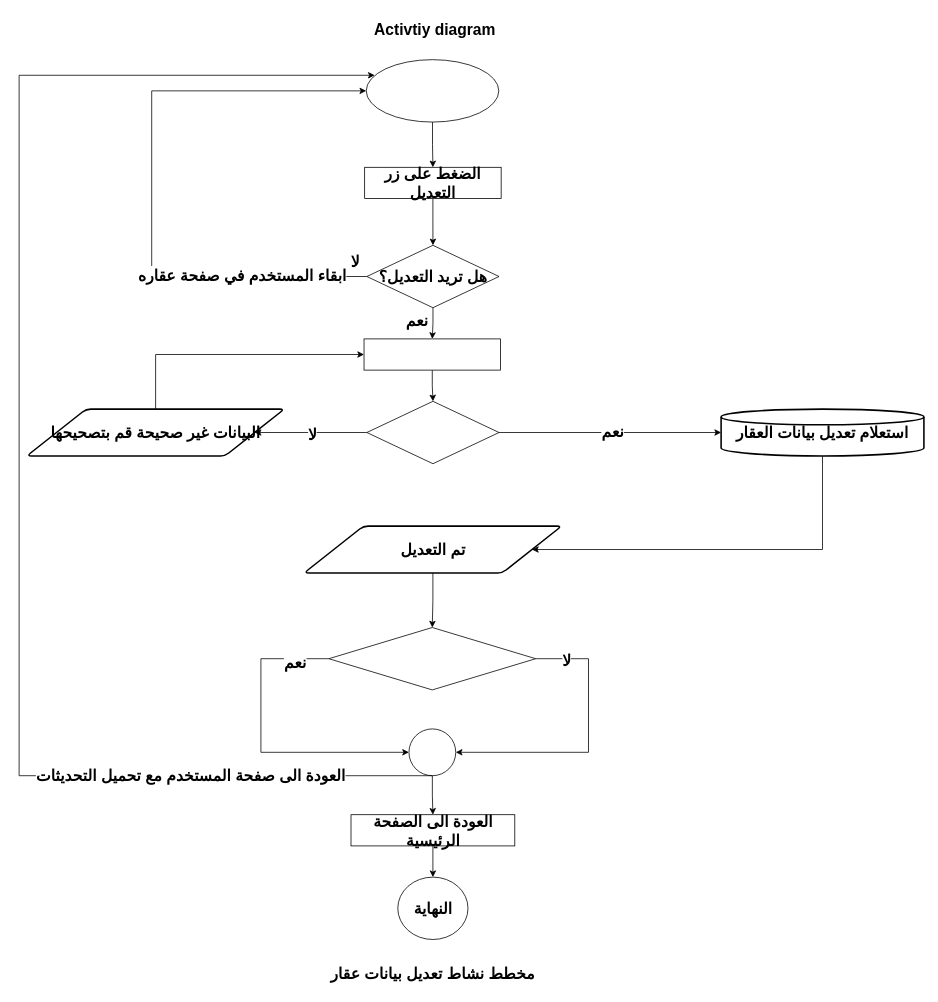
Some shapes in this 938 by 1002 pixel diagram are drawn without their labels. The box of each missing label's shape, as (x1, y1, x2, y2) in pixels:
ادخال البيانات: (363, 338, 501, 370)
البداية صفحة عقار المستخدم: (365, 59, 499, 122)
البيانات صحيحة؟: (366, 401, 499, 464)
معاينة الصفحة بعد التعديلات؟: (328, 627, 536, 690)
